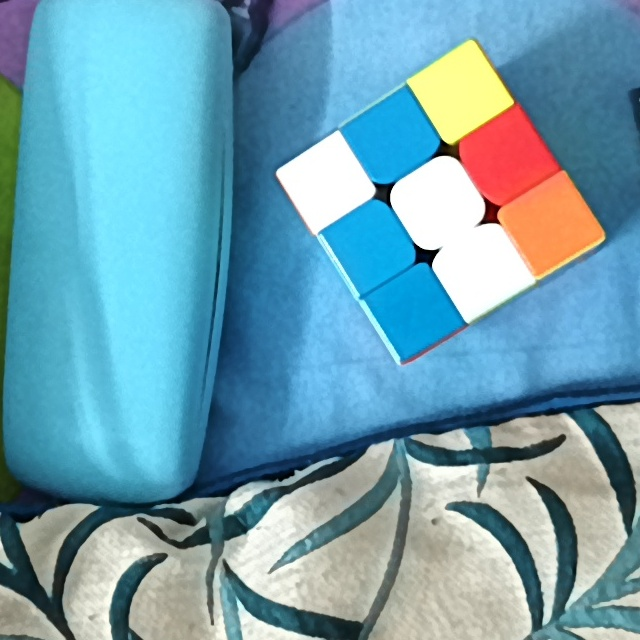tile: (477, 128, 536, 185), (409, 176, 464, 232), (529, 194, 579, 252), (432, 69, 485, 120), (301, 157, 354, 208), (345, 217, 396, 270), (454, 245, 505, 297), (368, 114, 421, 163), (393, 286, 440, 337)
